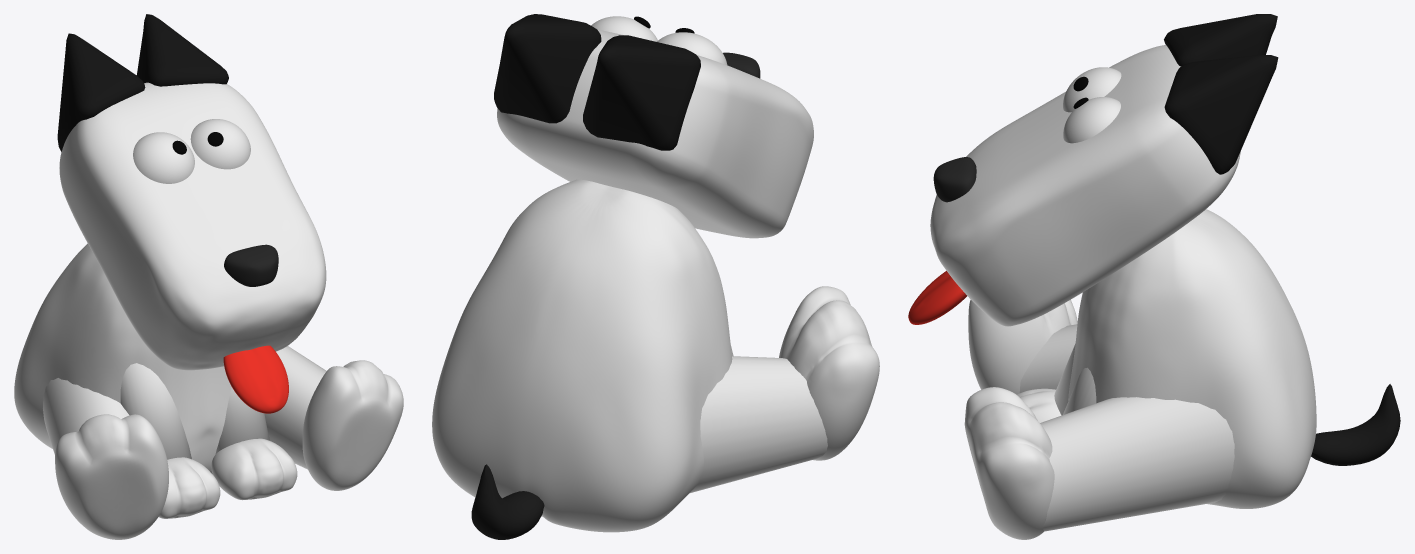
Rendered from Husky.glb.
3 renders of one model, left to right at view 1: azimuth 30°, elevation 25°; view 2: azimuth 150°, elevation 25°; view 3: azimuth 270°, elevation 25°, orthographic. The views are drawn at different scales.
Parts seen in each view (by area): view 1: header, 球体.001, hand, hand.003, 立方体.001, hand.001, 立方体.002, 柱体.003, leg.001, 立方体.005, leg, hand.002 (+4 smaller); view 2: 球体.001, header, leg, 立方体.001, hand, 立方体.002, 立方体.004, left.eye, right.eye, 立方体; view 3: header, 球体.001, leg.001, hand.003, 立方体.002, hand, 立方体.001, 立方体.004, leg, right.eye, 立方体.005, 立方体 (+4 smaller).
Part boxes in pixels (<box>): header: <box>59,82,326,370</box>; 球体.001: <box>14,243,231,473</box>; hand: <box>55,414,168,539</box>; hand.003: <box>302,360,403,490</box>; 立方体.001: <box>57,33,145,151</box>; hand.001: <box>211,438,297,500</box>; 立方体.002: <box>136,14,228,86</box>; 柱体.003: <box>120,363,191,459</box>; leg.001: <box>264,346,326,469</box>; 立方体.005: <box>223,345,288,413</box>; leg: <box>43,378,129,454</box>; hand.002: <box>158,457,220,518</box>; 球体.001: <box>432,179,732,532</box>; header: <box>497,29,813,238</box>; leg: <box>690,356,827,492</box>; 立方体.001: <box>583,35,700,150</box>; hand: <box>779,286,879,460</box>; 立方体.002: <box>494,14,601,123</box>; 立方体.004: <box>471,464,544,539</box>; left.eye: <box>657,32,727,64</box>; right.eye: <box>591,16,657,41</box>; 立方体: <box>723,52,760,78</box>; header: <box>930,45,1240,326</box>; 球体.001: <box>1068,209,1316,508</box>; leg.001: <box>1040,397,1234,531</box>; hand.003: <box>964,387,1054,539</box>; 立方体.002: <box>1164,55,1278,174</box>; hand: <box>968,299,1077,394</box>; 立方体.001: <box>1164,14,1277,66</box>; 立方体.004: <box>1311,384,1400,465</box>; leg: <box>1019,324,1077,392</box>; right.eye: <box>1063,97,1120,143</box>; 立方体.005: <box>908,271,966,324</box>; 立方体: <box>933,157,976,202</box>.
Bounding box in the file's own units: 3.02 × 3.65 × 3.62.
